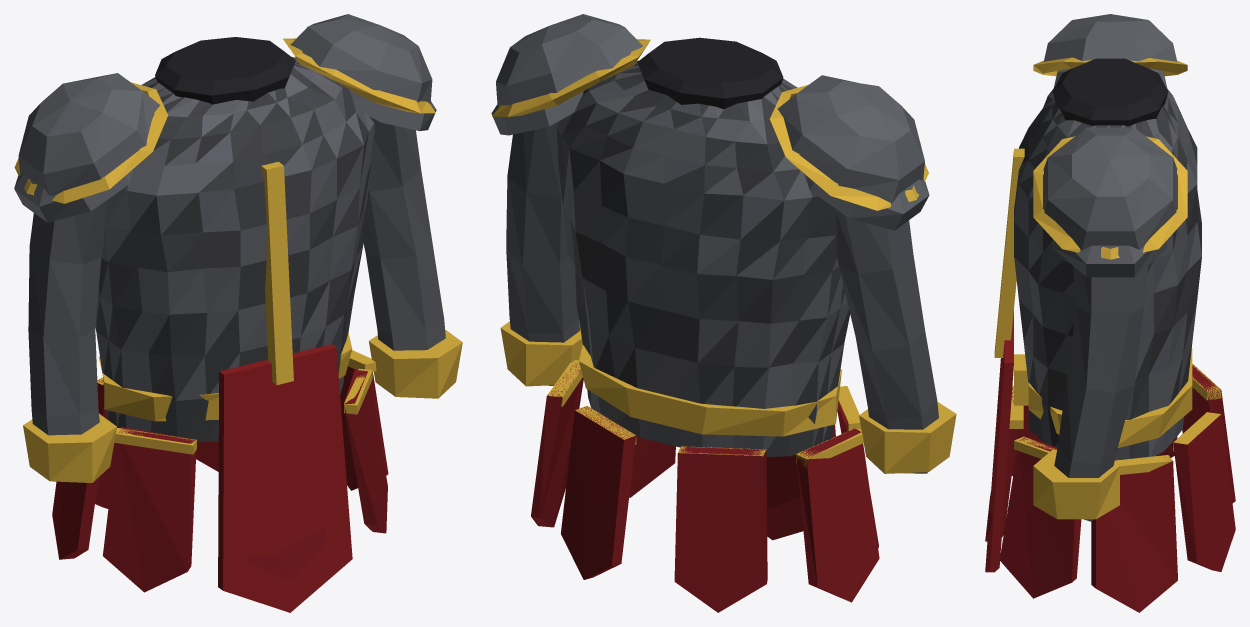
Rendered from B05_2_crimson_chain_hauberk.obj.
The picture shows the model from 3 angles, left to right: view 1: azimuth 30°, elevation 25°; view 2: azimuth 150°, elevation 25°; view 3: azimuth 270°, elevation 25°; orthographic projection. The views are drawn at different scales.
Visible parts, largest first — view 1: B05_2_crimson_chain_hauberk; view 2: B05_2_crimson_chain_hauberk; view 3: B05_2_crimson_chain_hauberk.
Boxes of the visible parts, x1=… form: B05_2_crimson_chain_hauberk: x1=14, y1=14, x2=462, y2=612; B05_2_crimson_chain_hauberk: x1=491, y1=14, x2=956, y2=612; B05_2_crimson_chain_hauberk: x1=985, y1=14, x2=1235, y2=612.
Size of the model in its own units: 96 by 113 by 52.
